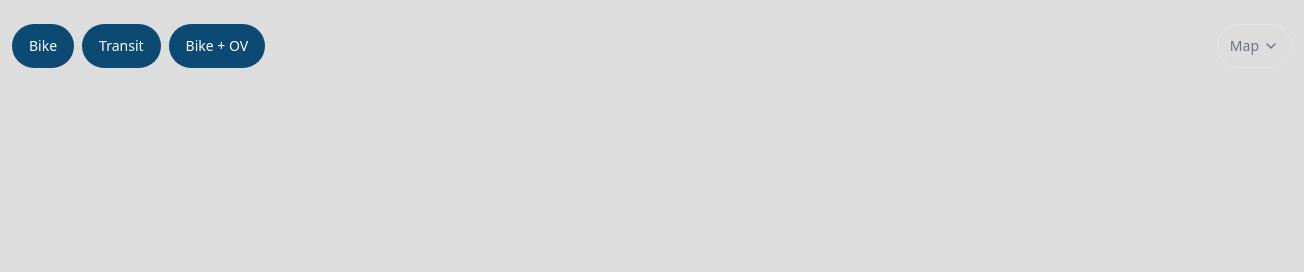
it: the phone bar keeps the mode filters and folds the map's tools behind one control
Expected: the button "Bike" is shown, [12, 24, 74, 68]
Expected: the button "Transit" is shown, [82, 24, 161, 68]
Step 1. Click the button with aria-label "map options" → (1254, 46), box [1217, 24, 1292, 68]
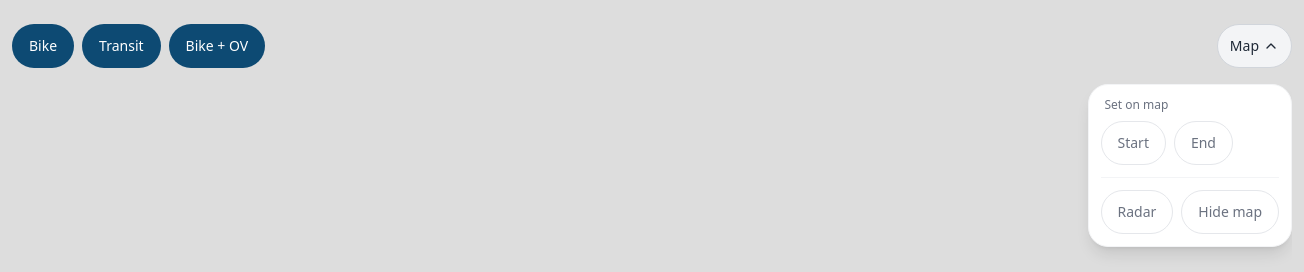
Expected: the button with aria-label "map options" is expanded, [1217, 24, 1292, 68]
Expected: the button "Start" is shown, [1100, 121, 1166, 165]
Expected: the button "End" is shown, [1174, 121, 1233, 165]
